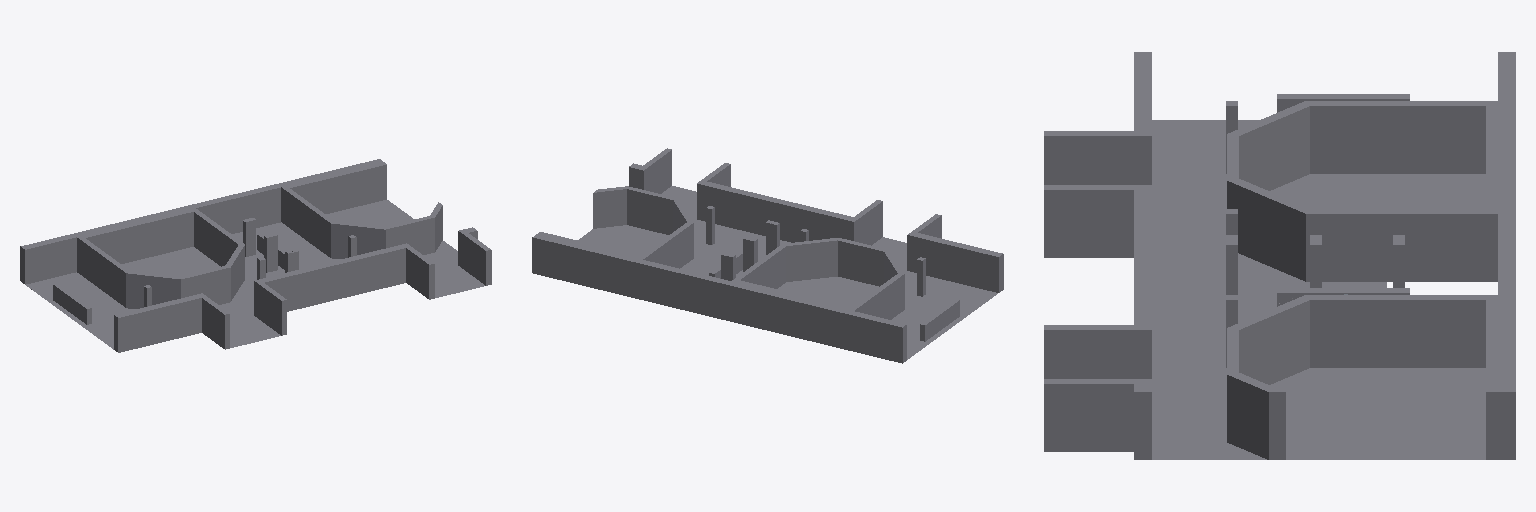
URDF robot description (electrical_mezzanine):
<?xml version="1.0"?>
<!--
  由 scripts/build-models.mjs 从 SDF 转换生成，请勿手工编辑。
  源：work01/xczs_inspection_robot_description/urdf/scenes/electrical_mezzanine.xacro
  模型名：electrical_mezzanine
-->
<robot name="electrical_mezzanine">
    <!-- SDF 的 world 关节在 URDF 里需要一个真实根 link -->
    <link name="world" />
    <link name="dianqiground">
      <visual>
        <origin xyz="0 0 0" rpy="0 0 0" />
        <geometry>
          <mesh filename="scenes/electrical_mezzanine/dianqiground.STL" />
        </geometry>
        <material name="dianqiground_mat">
          <color rgba="0.55 0.55 0.58 1" />
        </material>
      </visual>
    </link>
    <link name="s1">
      <visual>
        <origin xyz="0 0 0" rpy="0 0 0" />
        <geometry>
          <mesh filename="scenes/electrical_mezzanine/s1.STL" />
        </geometry>
        <material name="s1_mat">
          <color rgba="0.7 0.73 0.78 1" />
        </material>
      </visual>
      <visual>
        <origin xyz="0.02 0.145 0.16828" rpy="0 0 0" />
        <geometry>
          <mesh filename="scenes/electrical_mezzanine/s1r.STL" />
        </geometry>
        <material name="s1_mat">
          <color rgba="0.2 0.2 0.22 1" />
        </material>
      </visual>
      <visual>
        <origin xyz="0.069 0.222 0.121" rpy="0 0 0" />
        <geometry>
          <mesh filename="scenes/electrical_mezzanine/s1p.STL" />
        </geometry>
        <material name="s1_mat">
          <color rgba="0.85 0.04 0.04 1" />
        </material>
      </visual>
    </link>
    <link name="s2">
      <visual>
        <origin xyz="0 0 0" rpy="0 0 0" />
        <geometry>
          <mesh filename="scenes/electrical_mezzanine/s2.STL" />
        </geometry>
        <material name="s2_mat">
          <color rgba="0.12 0.48 0.88 1" />
        </material>
      </visual>
      <visual>
        <origin xyz="0.02 0.145 0.16828" rpy="0 0 0" />
        <geometry>
          <mesh filename="scenes/electrical_mezzanine/s2r.STL" />
        </geometry>
        <material name="s2_mat">
          <color rgba="0.12 0.48 0.88 1" />
        </material>
      </visual>
      <visual>
        <origin xyz="0.069 0.222 0.121" rpy="0 0 0" />
        <geometry>
          <mesh filename="scenes/electrical_mezzanine/s2p.STL" />
        </geometry>
        <material name="s2_mat">
          <color rgba="0.12 0.48 0.88 1" />
        </material>
      </visual>
    </link>
    <link name="b1">
      <visual>
        <origin xyz="0 0 0" rpy="0 0 0" />
        <geometry>
          <mesh filename="scenes/electrical_mezzanine/b1.STL" />
        </geometry>
        <material name="b1_mat">
          <color rgba="0.12 0.48 0.88 1" />
        </material>
      </visual>
      <visual>
        <origin xyz="0.03 0.16661 0.12017" rpy="0 0 0" />
        <geometry>
          <mesh filename="scenes/electrical_mezzanine/b1r.STL" />
        </geometry>
        <material name="b1_mat">
          <color rgba="0.12 0.48 0.88 1" />
        </material>
      </visual>
    </link>
    <link name="b1p">
      <visual>
        <origin xyz="0 0 0" rpy="0 0 0" />
        <geometry>
          <mesh filename="scenes/electrical_mezzanine/b1p.STL" />
        </geometry>
        <material name="b1p_mat">
          <color rgba="0.85 0.04 0.04 1" />
        </material>
      </visual>
    </link>
    <link name="b1p_anchor" />
    <link name="s3">
      <visual>
        <origin xyz="0 0 0" rpy="0 0 0" />
        <geometry>
          <mesh filename="scenes/electrical_mezzanine/s3.STL" />
        </geometry>
        <material name="s3_mat">
          <color rgba="0.12 0.48 0.88 1" />
        </material>
      </visual>
      <visual>
        <origin xyz="0.02 0.145 0.16828" rpy="0 0 0" />
        <geometry>
          <mesh filename="scenes/electrical_mezzanine/s3r.STL" />
        </geometry>
        <material name="s3_mat">
          <color rgba="0.12 0.48 0.88 1" />
        </material>
      </visual>
      <visual>
        <origin xyz="0.069 0.274 0.121" rpy="0 0 0" />
        <geometry>
          <mesh filename="scenes/electrical_mezzanine/s3p.STL" />
        </geometry>
        <material name="s3_mat">
          <color rgba="0.12 0.48 0.88 1" />
        </material>
      </visual>
    </link>
    <link name="m1">
      <visual>
        <origin xyz="0 0 0" rpy="0 0 0" />
        <geometry>
          <mesh filename="scenes/electrical_mezzanine/m1.STL" />
        </geometry>
        <material name="m1_mat">
          <color rgba="0.12 0.48 0.88 1" />
        </material>
      </visual>
      <visual>
        <origin xyz="0.03 0.16661 0.060175" rpy="0 0 0" />
        <geometry>
          <mesh filename="scenes/electrical_mezzanine/m1r.STL" />
        </geometry>
        <material name="m1_mat">
          <color rgba="0.12 0.48 0.88 1" />
        </material>
      </visual>
      <visual>
        <origin xyz="0.069 0.638 0.108" rpy="0 0 0" />
        <geometry>
          <mesh filename="scenes/electrical_mezzanine/m1p.STL" />
        </geometry>
        <material name="m1_mat">
          <color rgba="0.12 0.48 0.88 1" />
        </material>
      </visual>
    </link>
    <link name="b1_flank_west" />
    <link name="b1_flank_east" />

    <joint name="b1p_anchor_joint" type="fixed">
      <origin xyz="0.069 0.638 0.168029394" rpy="0 0 0" />
      <parent link="b1" />
      <child link="b1p_anchor" />
    </joint>
    <joint name="b1p_joint" type="prismatic">
      <origin xyz="0 0 0" rpy="0 0 0" />
      <parent link="b1p_anchor" />
      <child link="b1p" />
      <axis xyz="-1 0 0" />
      <limit lower="0" upper="0.012" effort="100" velocity="1" />
    </joint>
    <joint name="ds1" type="prismatic">
      <origin xyz="0.03 4.436 1.93" rpy="0 0 0" />
      <parent link="dianqiground" />
      <child link="s1" />
      <axis xyz="1 0 0" />
      <limit lower="0" upper="0.38" effort="100" velocity="1" />
    </joint>
    <joint name="ds2" type="prismatic">
      <origin xyz="0.03 4.074 1.39" rpy="0 0 0" />
      <parent link="dianqiground" />
      <child link="s2" />
      <axis xyz="1 0 0" />
      <limit lower="0" upper="0.38" effort="100" velocity="1" />
    </joint>
    <joint name="db1" type="prismatic">
      <origin xyz="0.03 4.047 0.831870606" rpy="0 0 0" />
      <parent link="dianqiground" />
      <child link="b1" />
      <axis xyz="1 0 0" />
      <limit lower="0" upper="0.38" effort="100" velocity="1" />
    </joint>
    <joint name="ds3" type="prismatic">
      <origin xyz="0.03 5.236 1.385" rpy="0 0 0" />
      <parent link="dianqiground" />
      <child link="s3" />
      <axis xyz="1 0 0" />
      <limit lower="0" upper="0.38" effort="100" velocity="1" />
    </joint>
    <joint name="dm1" type="prismatic">
      <origin xyz="0.03 4.847 0.895" rpy="0 0 0" />
      <parent link="dianqiground" />
      <child link="m1" />
      <axis xyz="1 0 0" />
      <limit lower="0" upper="0.38" effort="100" velocity="1" />
    </joint>
    <joint name="b1_flank_west_fix" type="fixed">
      <origin xyz="0.071 3.9225 0.95" rpy="0 0 0" />
      <parent link="dianqiground" />
      <child link="b1_flank_west" />
    </joint>
    <joint name="b1_flank_east_fix" type="fixed">
      <origin xyz="0.071 4.81 0.95" rpy="0 0 0" />
      <parent link="dianqiground" />
      <child link="b1_flank_east" />
    </joint>
    <joint name="anchor_dianqiground" type="fixed">
      <origin xyz="0 0 0" rpy="0 0 0" />
      <parent link="world" />
      <child link="dianqiground" />
    </joint>
</robot>

--- Render facts (derived) ---
Views: 3 orthographic renders of the robot side by side, from view 1: azimuth 30°, elevation 25°; view 2: azimuth 150°, elevation 25°; view 3: azimuth 270°, elevation 25°.
Model electrical_mezzanine with 11 links and 10 joints (6 prismatic, 4 fixed), rooted at world, posed every joint at zero.
Visible links, largest first — view 1: dianqiground; view 2: dianqiground; view 3: dianqiground.
Link boxes in pixels (<box>): dianqiground: <box>20,159,491,352</box>; dianqiground: <box>532,148,1003,363</box>; dianqiground: <box>1044,52,1515,459</box>.
Bounding box of the posed robot: 53.75 × 31.4 × 5 m (x, y, z).
Meshes: 16 distinct files referenced, 11 mesh visuals loaded (11 binary STL); not drawn: 5 (reference not matched to a file when rendering).
